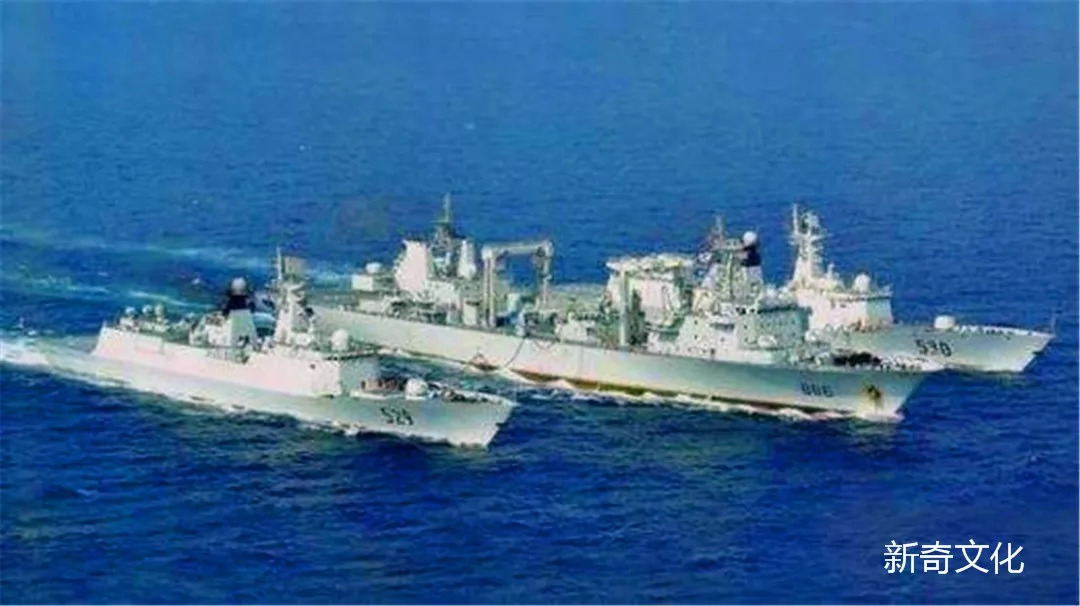warship: (272, 202, 961, 430), (25, 239, 528, 463), (510, 192, 1065, 383)
